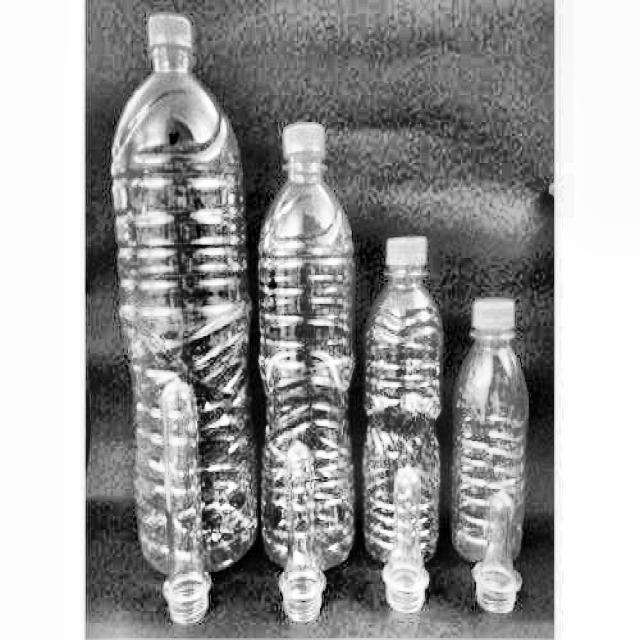waterbottle: (109, 12, 262, 577), (259, 122, 356, 572), (358, 236, 443, 565), (450, 299, 529, 567)
